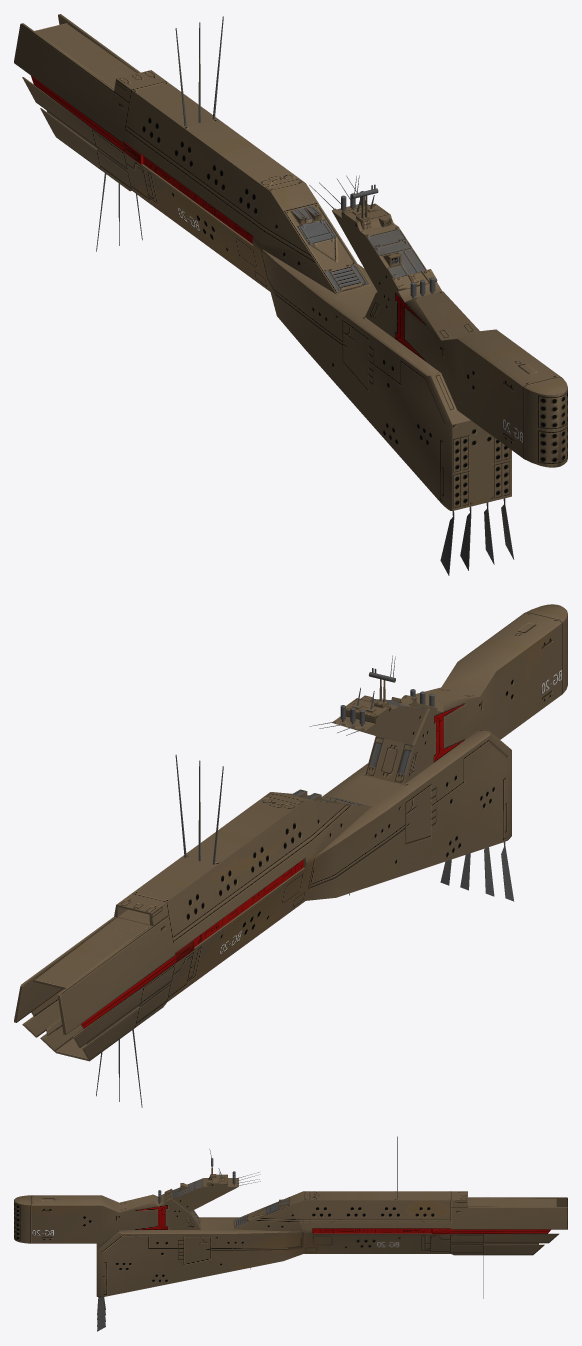
File: FPA_CommandShip_AirgetLamh.obj
3 renders of one model, top to bottom at view 1: azimuth 30°, elevation 25°; view 2: azimuth 150°, elevation 25°; view 3: azimuth 270°, elevation 25°, orthographic. The views are drawn at different scales.
Visible parts, largest first — view 1: FPA_CommandShip_AirgetLamh; view 2: FPA_CommandShip_AirgetLamh; view 3: FPA_CommandShip_AirgetLamh.
Part boxes in pixels (x1,y1,x2,y2): FPA_CommandShip_AirgetLamh: [14, 14, 567, 575]; FPA_CommandShip_AirgetLamh: [14, 604, 567, 1107]; FPA_CommandShip_AirgetLamh: [14, 1136, 567, 1331].
Bounding box in the file's own units: 57.18 × 283 × 786.
